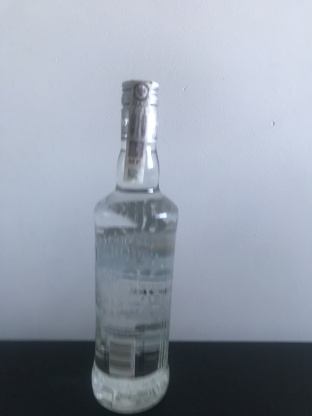nakretka: (118, 74, 161, 147)
